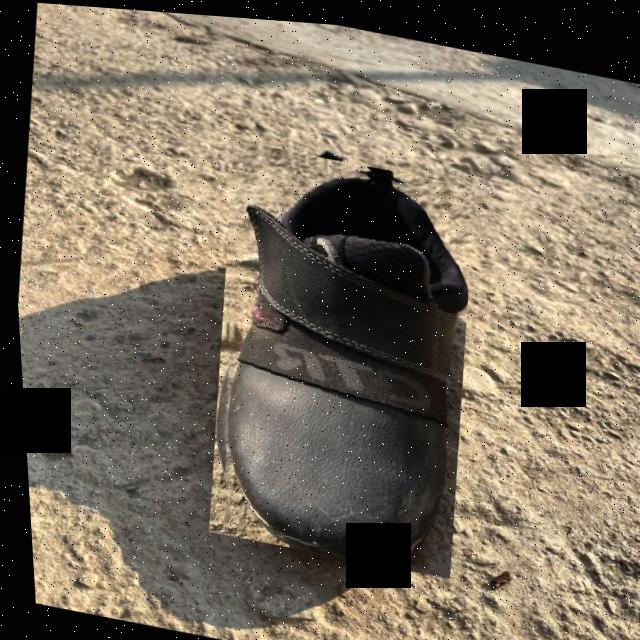shoe: (183, 134, 491, 575)
